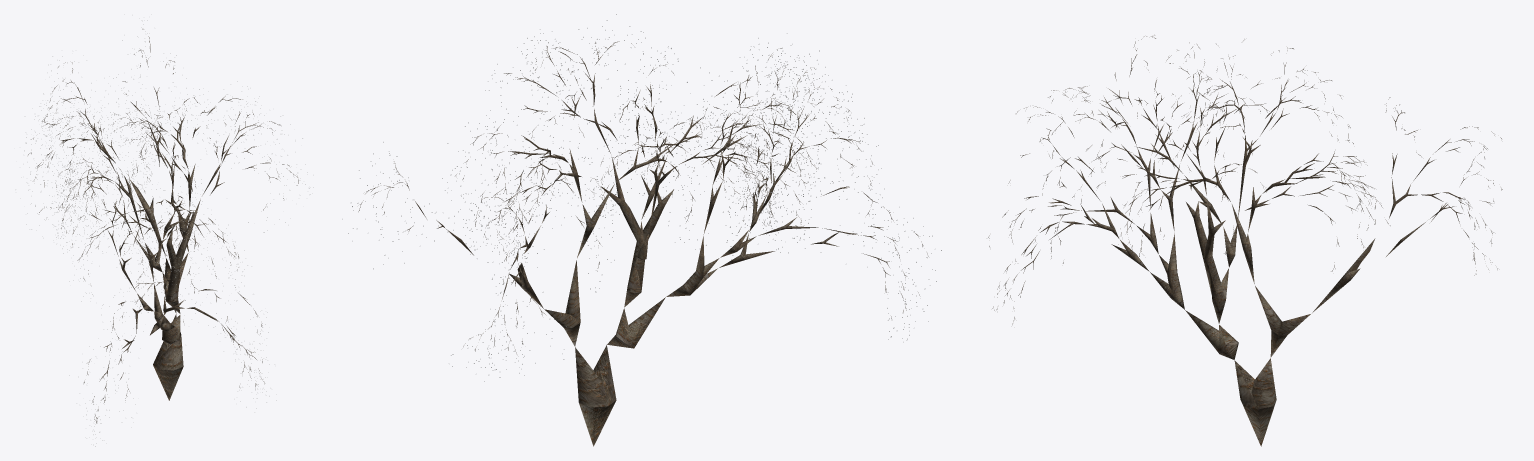
Rendered from sakura-focal-a.glb.
3 renders of one model, left to right at view 1: azimuth 30°, elevation 25°; view 2: azimuth 150°, elevation 25°; view 3: azimuth 270°, elevation 25°, orthographic. The views are drawn at different scales.
Visible parts, largest first — view 1: 树干, 花位; view 2: 树干, 花位; view 3: 树干.
Boxes of the visible parts, bbox=[...] form: 树干: bbox=[28, 29, 298, 423]; 花位: bbox=[15, 14, 313, 446]; 树干: bbox=[358, 41, 928, 446]; 花位: bbox=[342, 14, 941, 381]; 树干: bbox=[988, 35, 1502, 446].
Size of the model in its own units: 7.95 by 8.5 by 10.7.
Materials: 2 (1 with a texture image).
